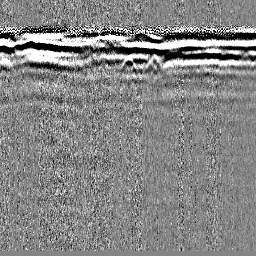cavity: (118, 53, 139, 75)
